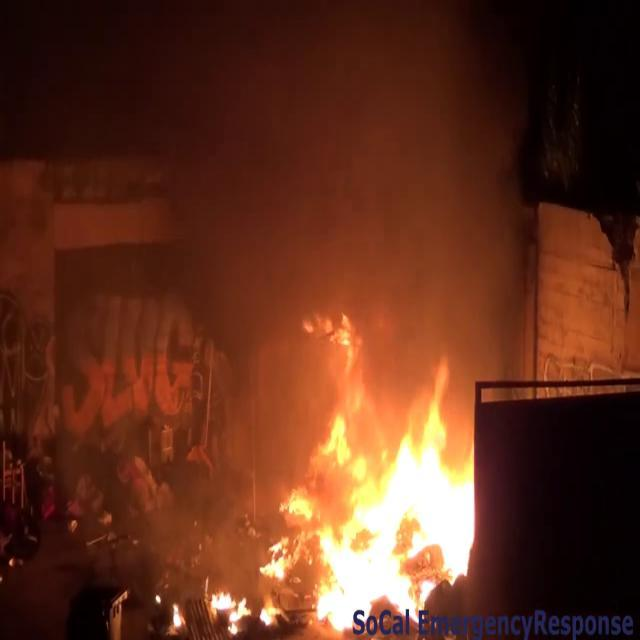Fire: (216, 338, 480, 636)
Smoke: (143, 0, 527, 400)
